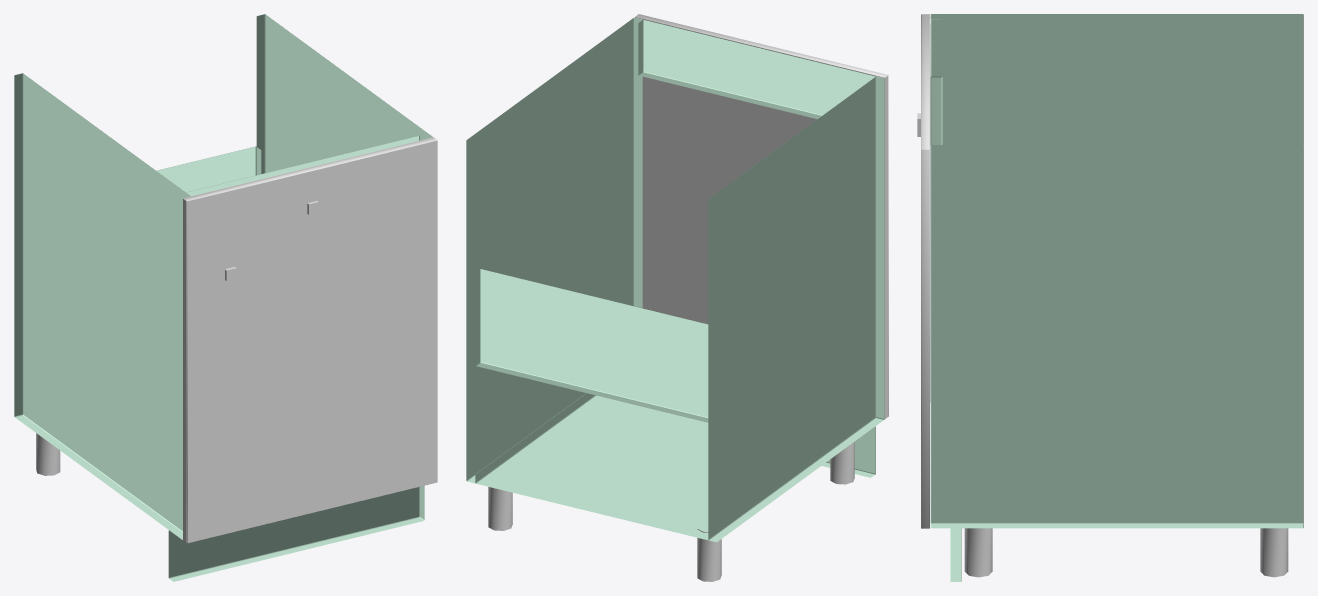
3 views of the same model, side by side, from view 1: azimuth 30°, elevation 25°; view 2: azimuth 150°, elevation 25°; view 3: azimuth 270°, elevation 25° (orthographic). The views are drawn at different scales.
Visible parts, largest first — view 1: M_1CL_1_F.002, M_1CL_1, M_1CL_1_F_C.011, Legs.002; view 2: M_1CL_1, M_1CL_1_F_A.011, Legs.002, M_1CL_1_F_B.011, M_1CL_1_F.002, M_1CL_1_F_C.011; view 3: M_1CL_1, M_1CL_1_F.002, Legs.002.
Part boxes in pixels (<box>): M_1CL_1_F.002: <box>184,137,437,543</box>; M_1CL_1: <box>14,14,432,581</box>; M_1CL_1_F_C.011: <box>183,199,186,541</box>; Legs.002: <box>36,433,60,475</box>; M_1CL_1: <box>466,17,884,542</box>; M_1CL_1_F_A.011: <box>635,16,886,323</box>; Legs.002: <box>488,442,854,581</box>; M_1CL_1_F_B.011: <box>760,47,887,418</box>; M_1CL_1_F.002: <box>635,14,888,416</box>; M_1CL_1_F_C.011: <box>636,17,887,418</box>; M_1CL_1: <box>930,14,1303,581</box>; M_1CL_1_F.002: <box>921,14,929,528</box>; Legs.002: <box>964,528,1288,577</box>.
Bounding box in the file's own units: 5.79 × 8.61 × 6.96.
